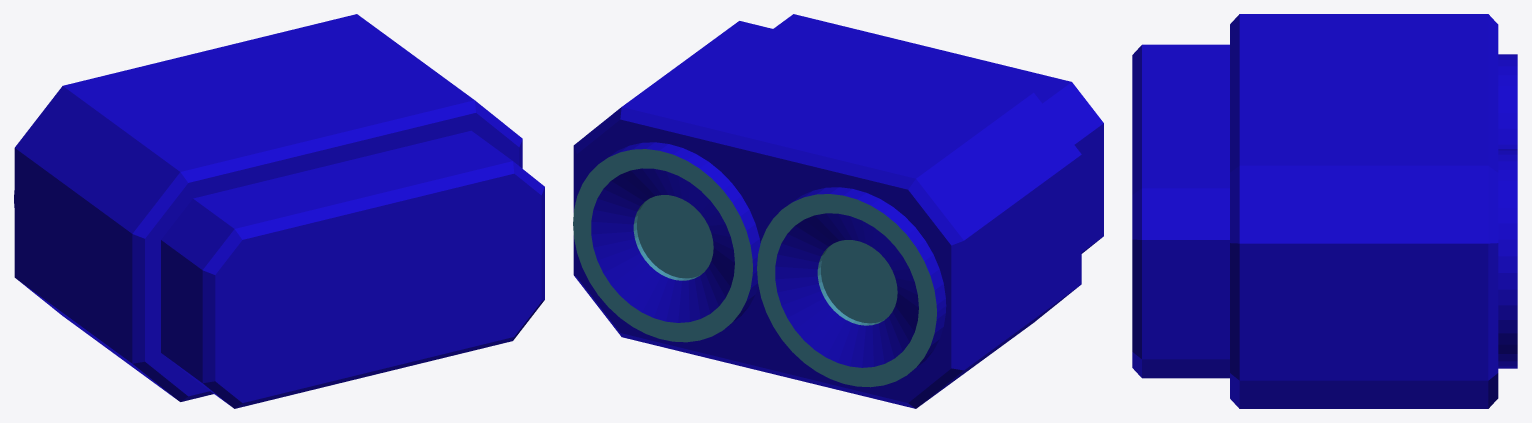
Rendered from mobileranger_rugged.dae.
3 renders of one model, left to right at view 1: azimuth 30°, elevation 25°; view 2: azimuth 150°, elevation 25°; view 3: azimuth 270°, elevation 25°, orthographic. The views are drawn at different scales.
Parts seen in each view (by area): view 1: mobileranger_rugged; view 2: mobileranger_rugged; view 3: mobileranger_rugged.
Part boxes in pixels (box(x1,y1,x2,y2)): mobileranger_rugged: box(14, 14, 544, 408); mobileranger_rugged: box(573, 14, 1103, 408); mobileranger_rugged: box(1132, 14, 1517, 408).
Size of the model in its own units: 0.124 by 0.1003 by 0.0724.
